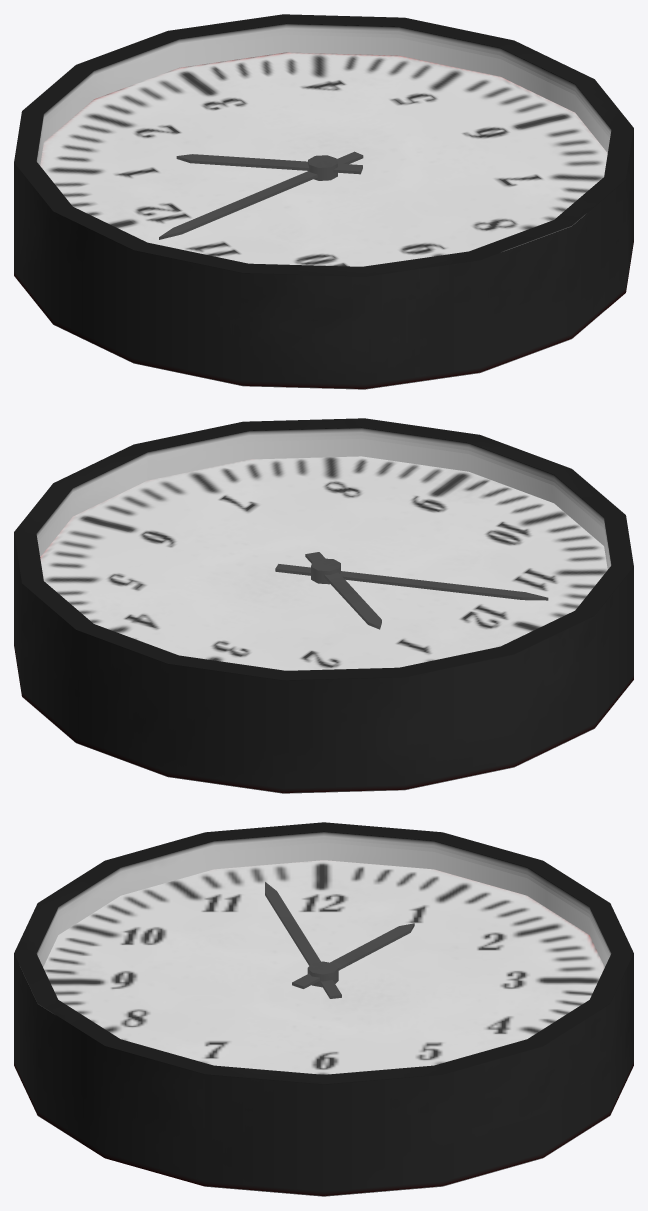
File: Clock.fbx
The picture shows the model from 3 angles, top to bottom: view 1: azimuth 30°, elevation 25°; view 2: azimuth 150°, elevation 25°; view 3: azimuth 270°, elevation 25°; orthographic projection.
Parts seen in each view (by area): view 1: Clock, Clock_Minute, Clock_Hour; view 2: Clock, Clock_Minute, Clock_Hour; view 3: Clock, Clock_Minute, Clock_Hour.
Boxes of the visible parts, box(x1,y1,x2,y2) form: Clock: box(14, 14, 633, 389); Clock_Minute: box(159, 151, 363, 239); Clock_Hour: box(176, 154, 362, 174); Clock: box(14, 418, 633, 793); Clock_Minute: box(275, 564, 548, 600); Clock_Hour: box(305, 552, 381, 629); Clock: box(14, 822, 633, 1196); Clock_Minute: box(265, 882, 341, 998); Clock_Hour: box(292, 923, 414, 988).
Size of the model in its own units: 20 by 4 by 20.
